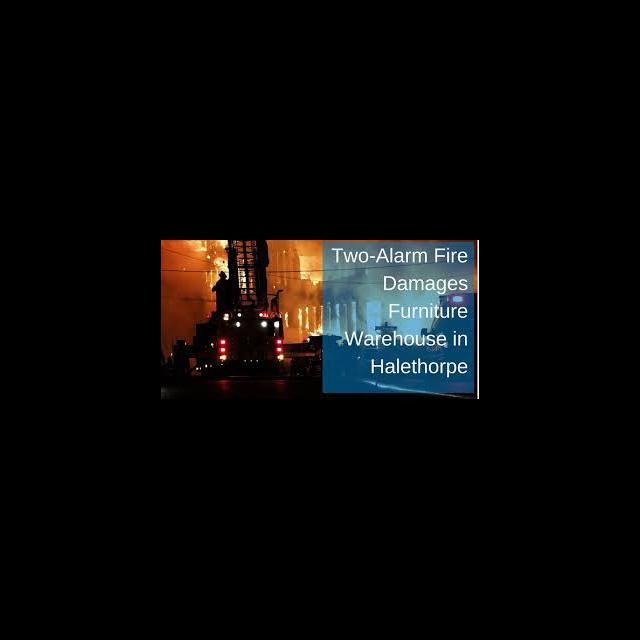Fire: (294, 250, 322, 286), (182, 240, 228, 252), (210, 258, 230, 280), (294, 304, 302, 331), (308, 322, 322, 337), (282, 310, 292, 330), (302, 305, 310, 329)
